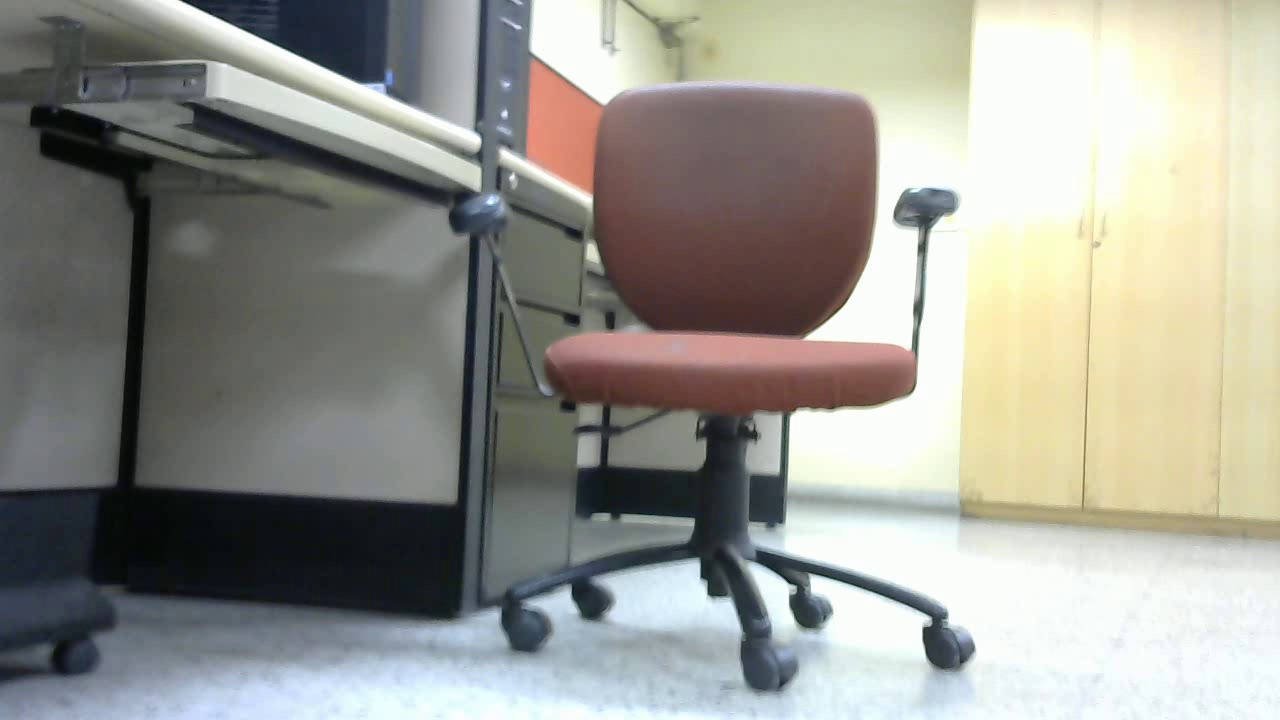chair: (585, 226, 822, 547), (238, 187, 413, 510)
